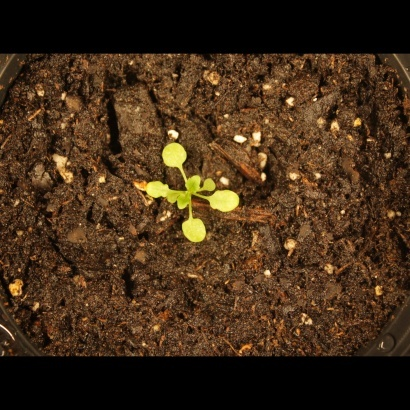leaf: (156, 137, 194, 171), (178, 216, 210, 249), (209, 187, 245, 216), (141, 177, 172, 201), (205, 173, 228, 196), (181, 171, 204, 194), (170, 191, 193, 214)
